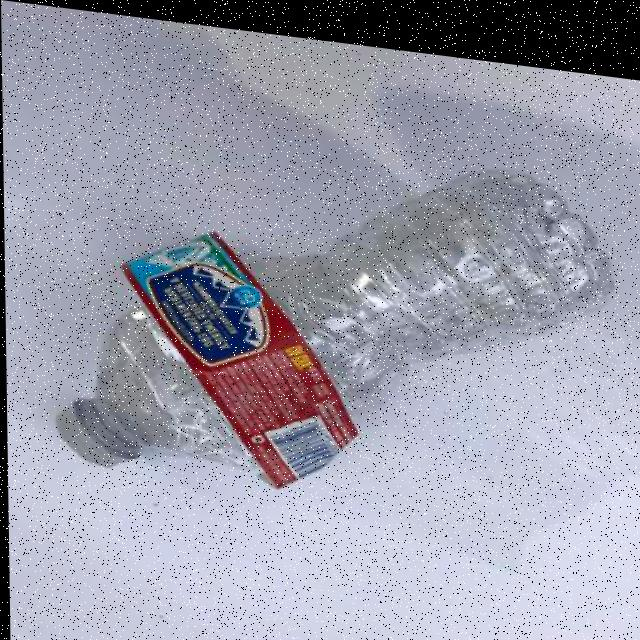plasticbottlecap: (39, 390, 143, 483)
